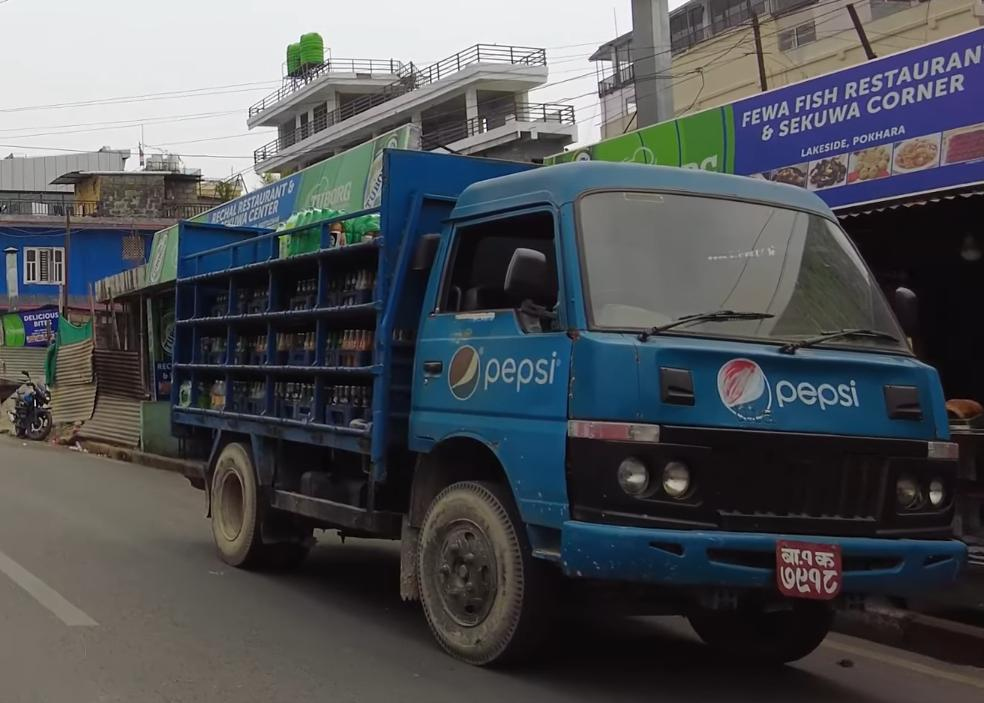bike: (4, 365, 66, 455)
mini_truck: (166, 136, 965, 673)
